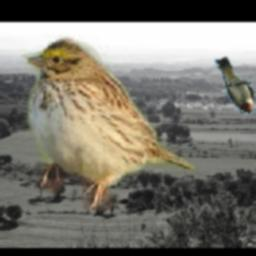Sparrow: (18, 35, 195, 211)
Swallow: (213, 57, 254, 117)
